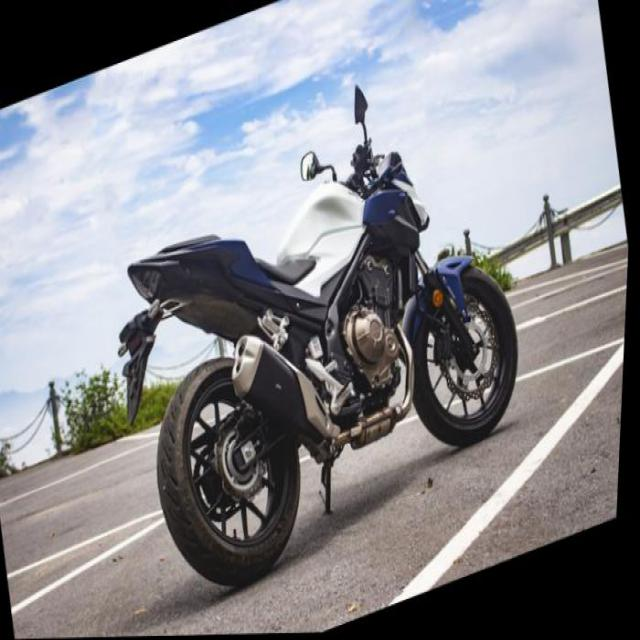CB500F: (99, 93, 553, 620)
